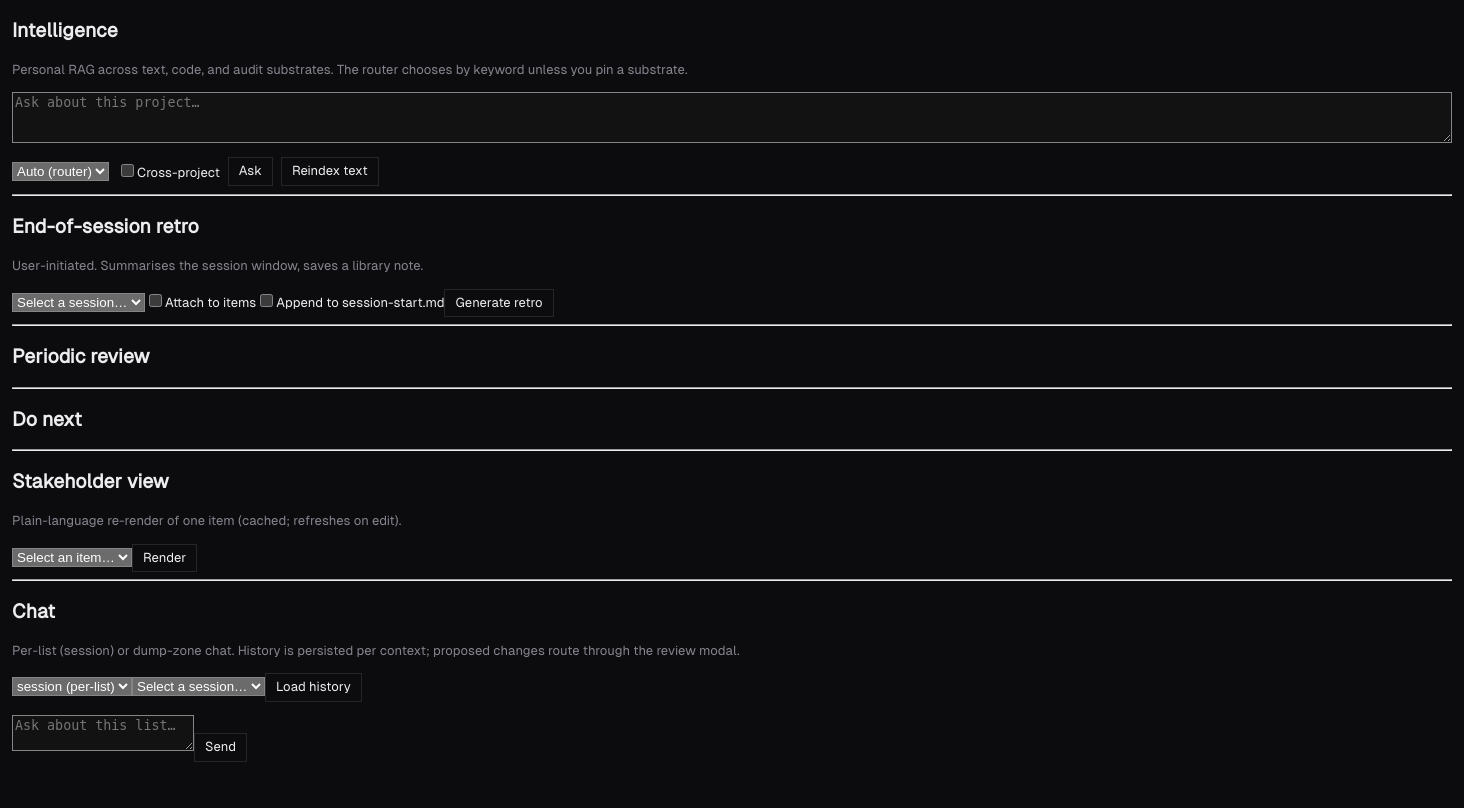
Scenario: Phase 14 — Intelligence (RAG) surface › reindex reports the embedder backend
The image size is (1464, 808).
Click the button with test id "rag-reindex".
click(330, 172)  # box [281, 157, 379, 186]
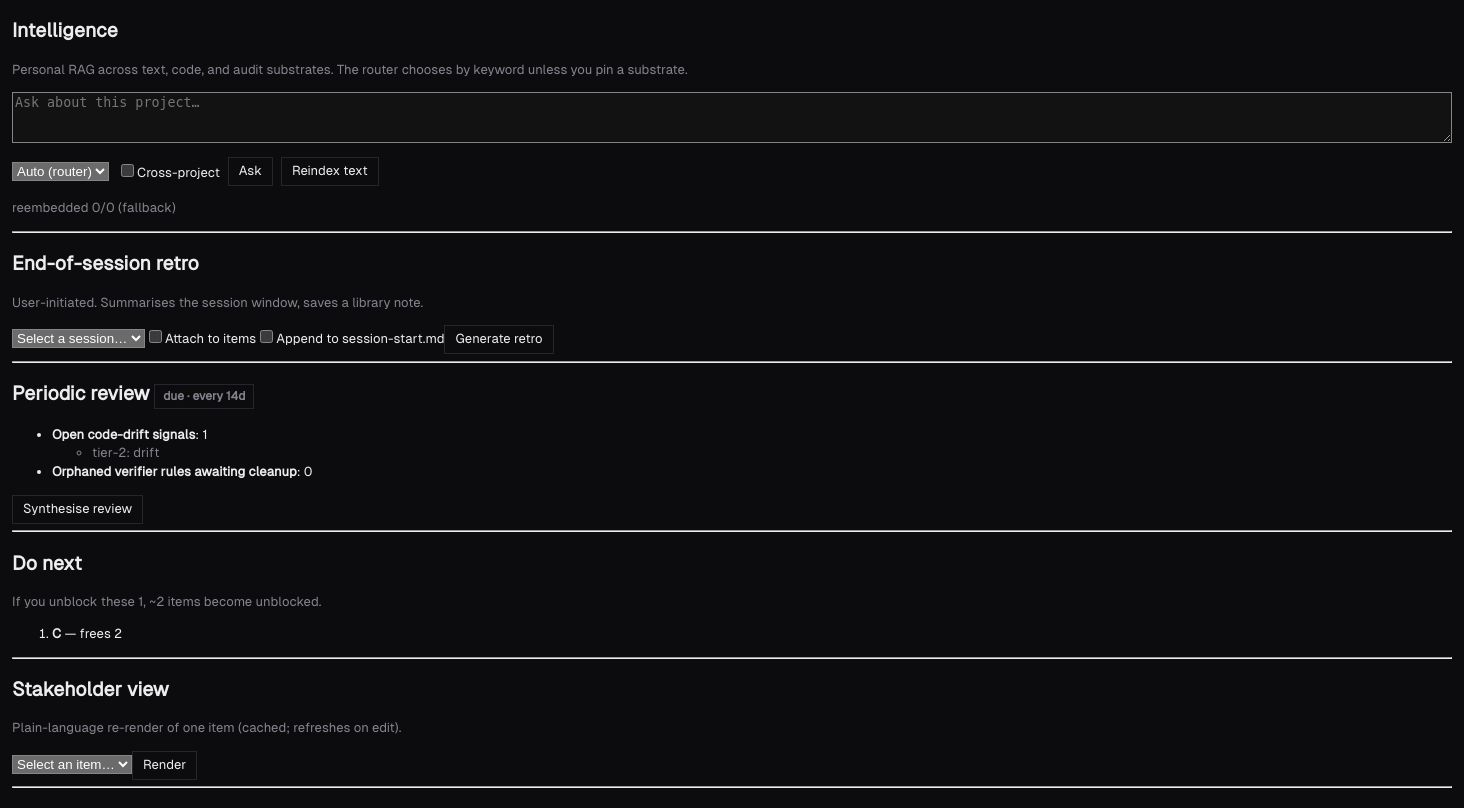
Expected: the text with test id "rag-reindex-msg" shows "fallback", [12, 200, 176, 215]
